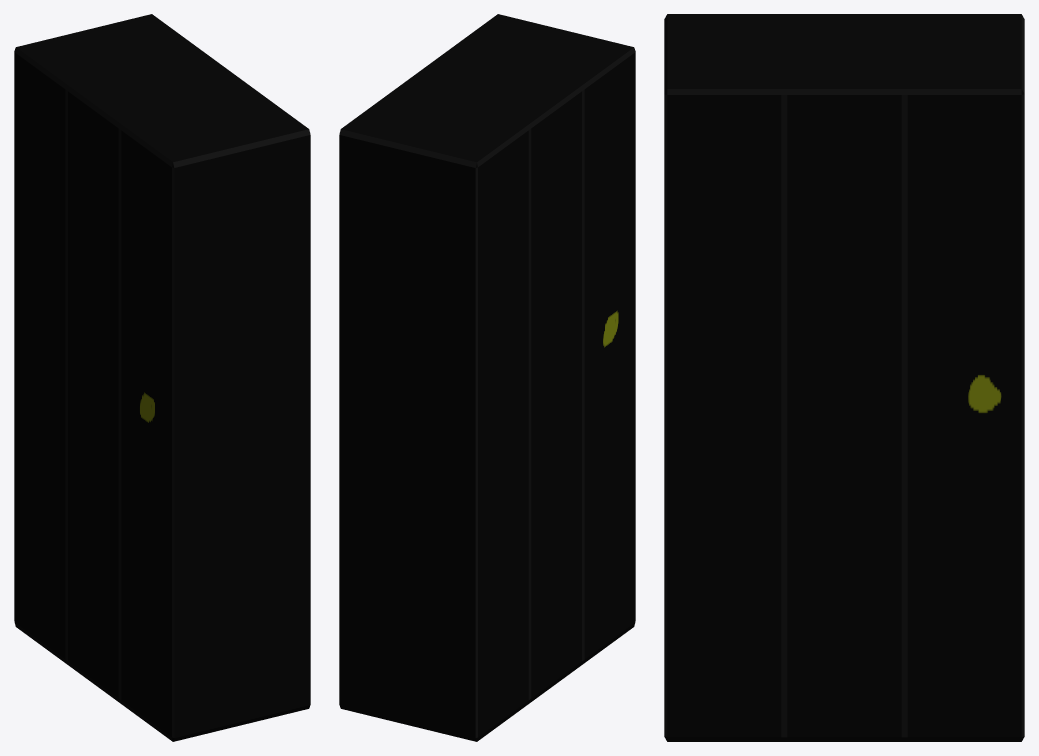
Rendered from door.glb.
The picture shows the model from 3 angles, left to right: view 1: azimuth 30°, elevation 25°; view 2: azimuth 150°, elevation 25°; view 3: azimuth 270°, elevation 25°; orthographic projection. The views are drawn at different scales.
Parts seen in each view (by area): view 1: Cube; view 2: Cube; view 3: Cube.
Part boxes in pixels (x1,y1,x2,y2): Cube: [14, 14, 310, 741]; Cube: [339, 14, 635, 741]; Cube: [664, 14, 1024, 741].
Size of the model in its own units: 1 by 4 by 2.
Materials: 2 (1 with a texture image).
